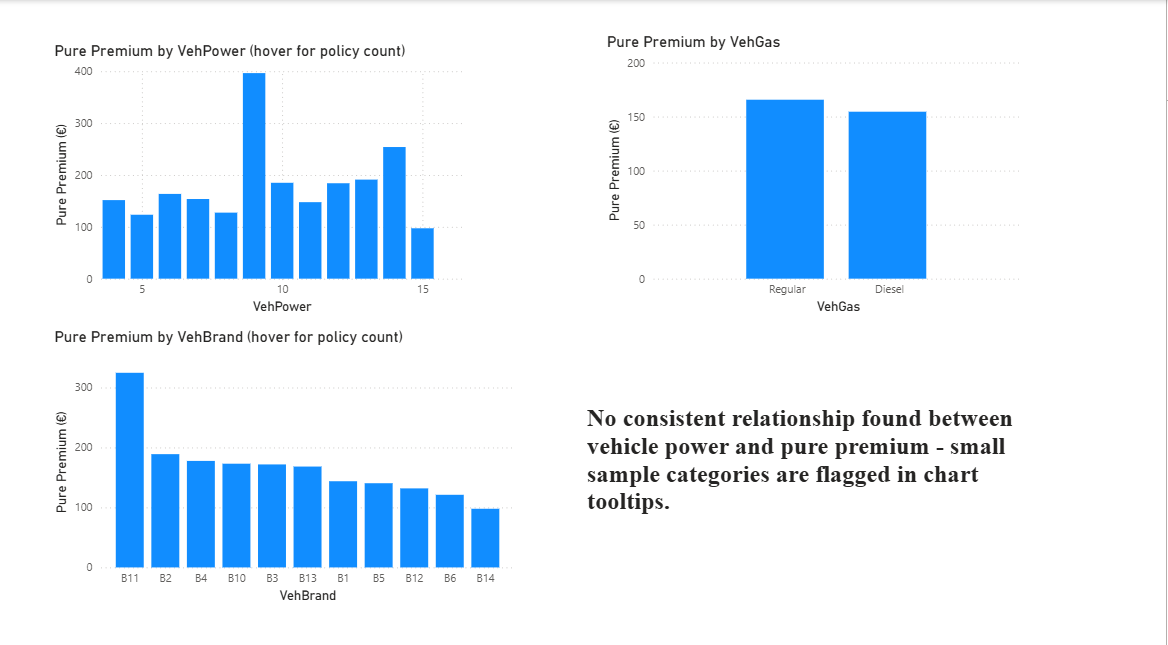

This screenshot's page, from the dashboard's own definition file:
{"tool":"powerbi","page":{"name":"Risk By Vehicle ","canvas":[1280,720],"ordinal":2},"visuals":[{"type":"clusteredColumnChart","title":"Pure Premium by VehPower (hover for policy count)","fields":{"Y":["policies_enriched.Pure Premium"],"Category":["policies_enriched.VehPower"]},"box":[54.9,45.3,458.3,304.6],"z":0},{"type":"clusteredColumnChart","fields":{"Category":["policies_enriched.VehGas"],"Y":["policies_enriched.Pure Premium"]},"box":[661.4,35.7,466.6,314.2],"z":1000},{"type":"clusteredColumnChart","title":"Pure Premium by VehBrand (hover for policy count)","fields":{"Category":["policies_enriched.VehBrand"],"Y":["policies_enriched.Pure Premium"]},"box":[54.9,359.5,514.6,307.4],"z":2000},{"type":"textbox","box":[639.5,439.1,514.6,146.8],"z":3000}]}

Visuals, with their boxes in screenshot pixels (x1, y1, x2, y2), scaled from the page's 1280x720 canvas onto the 1168x645 screenshot:
"Pure Premium by VehPower (hover for policy count)" clusteredColumnChart: left=50, top=41, right=468, bottom=313
clusteredColumnChart - policies_enriched.VehGas x policies_enriched.Pure Premium: left=604, top=32, right=1029, bottom=313
"Pure Premium by VehBrand (hover for policy count)" clusteredColumnChart: left=50, top=322, right=520, bottom=597
textbox: left=584, top=393, right=1053, bottom=525
